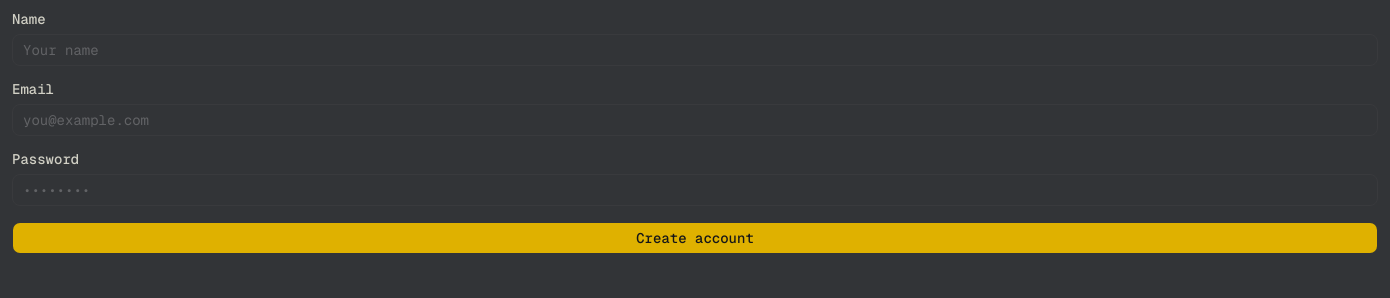
Test case: RegisterForm › shows validation error for short name on submit
Type "J" into the field with placeholder "Your name". click: (695, 50)
box: [12, 34, 1378, 66]
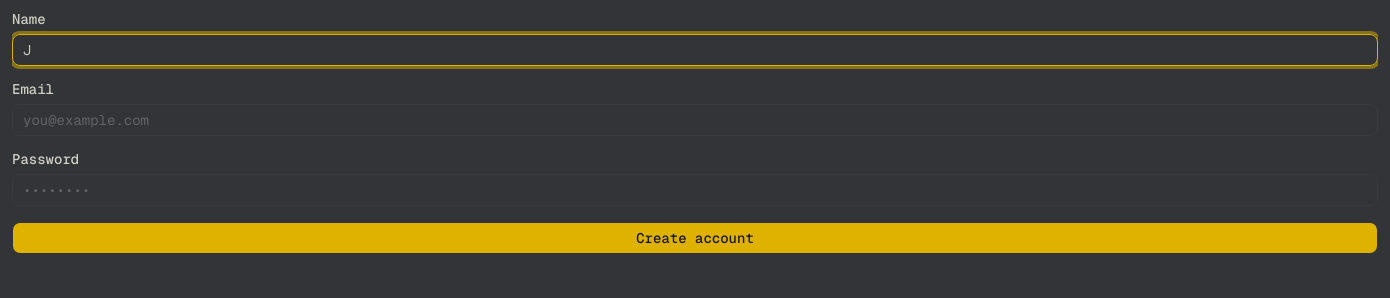
Type "j@example.com" into the field with placeholder "you@example.com". click: (695, 120)
box: [12, 104, 1378, 136]
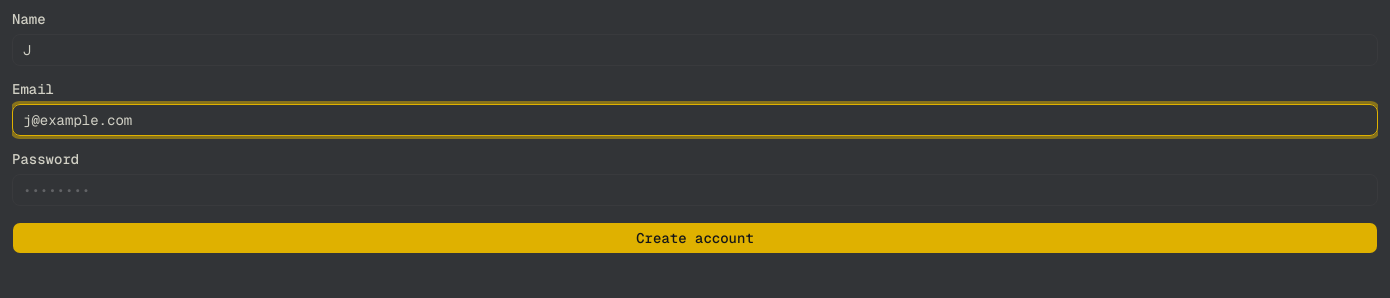
Type "12345678" into the password field with placeholder "••••••••". click: (695, 190)
box: [12, 174, 1378, 206]
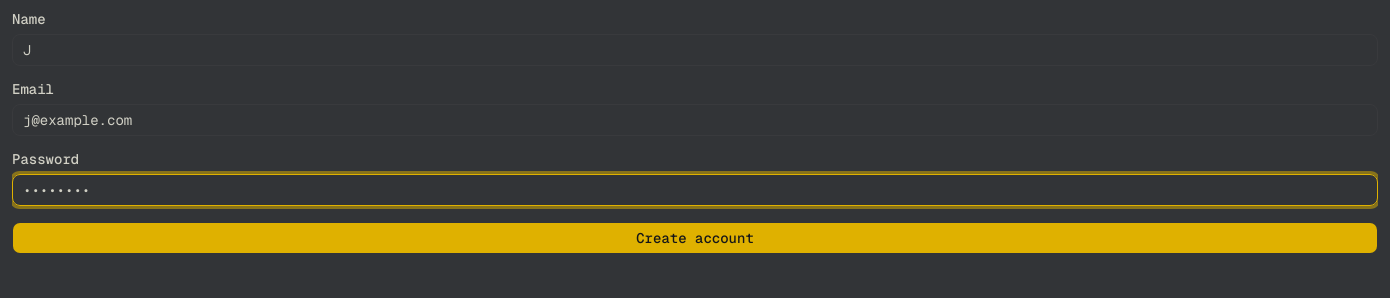
Click the button "Create account". click: (695, 238)
box: [12, 222, 1378, 254]
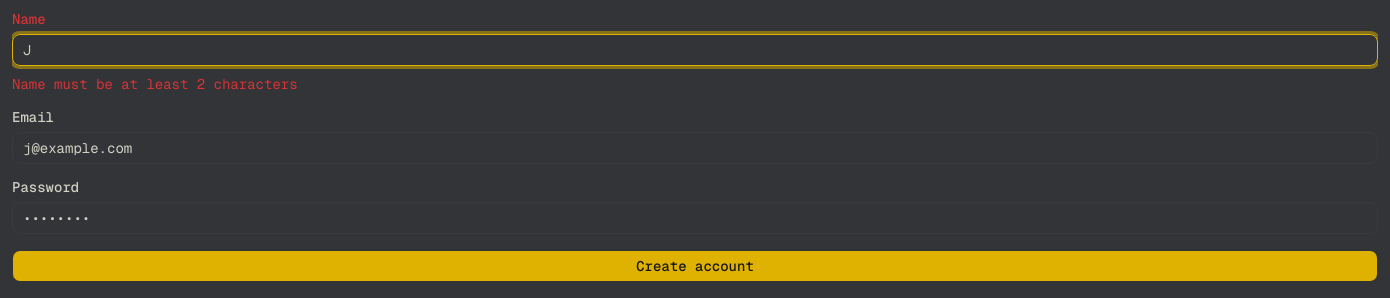
expect the text "Name must be at least 2 characters" is shown: met, box [12, 75, 298, 93]
